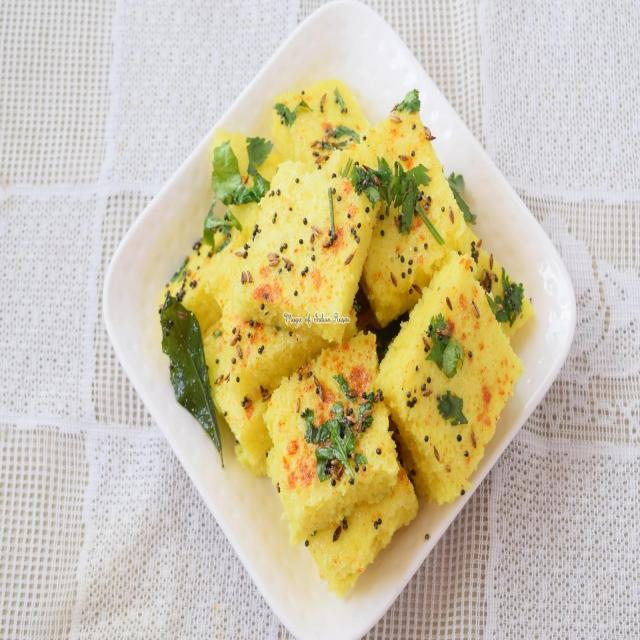dhokla: (167, 87, 521, 606)
